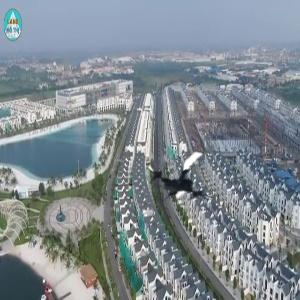drone: (149, 139, 227, 217)
